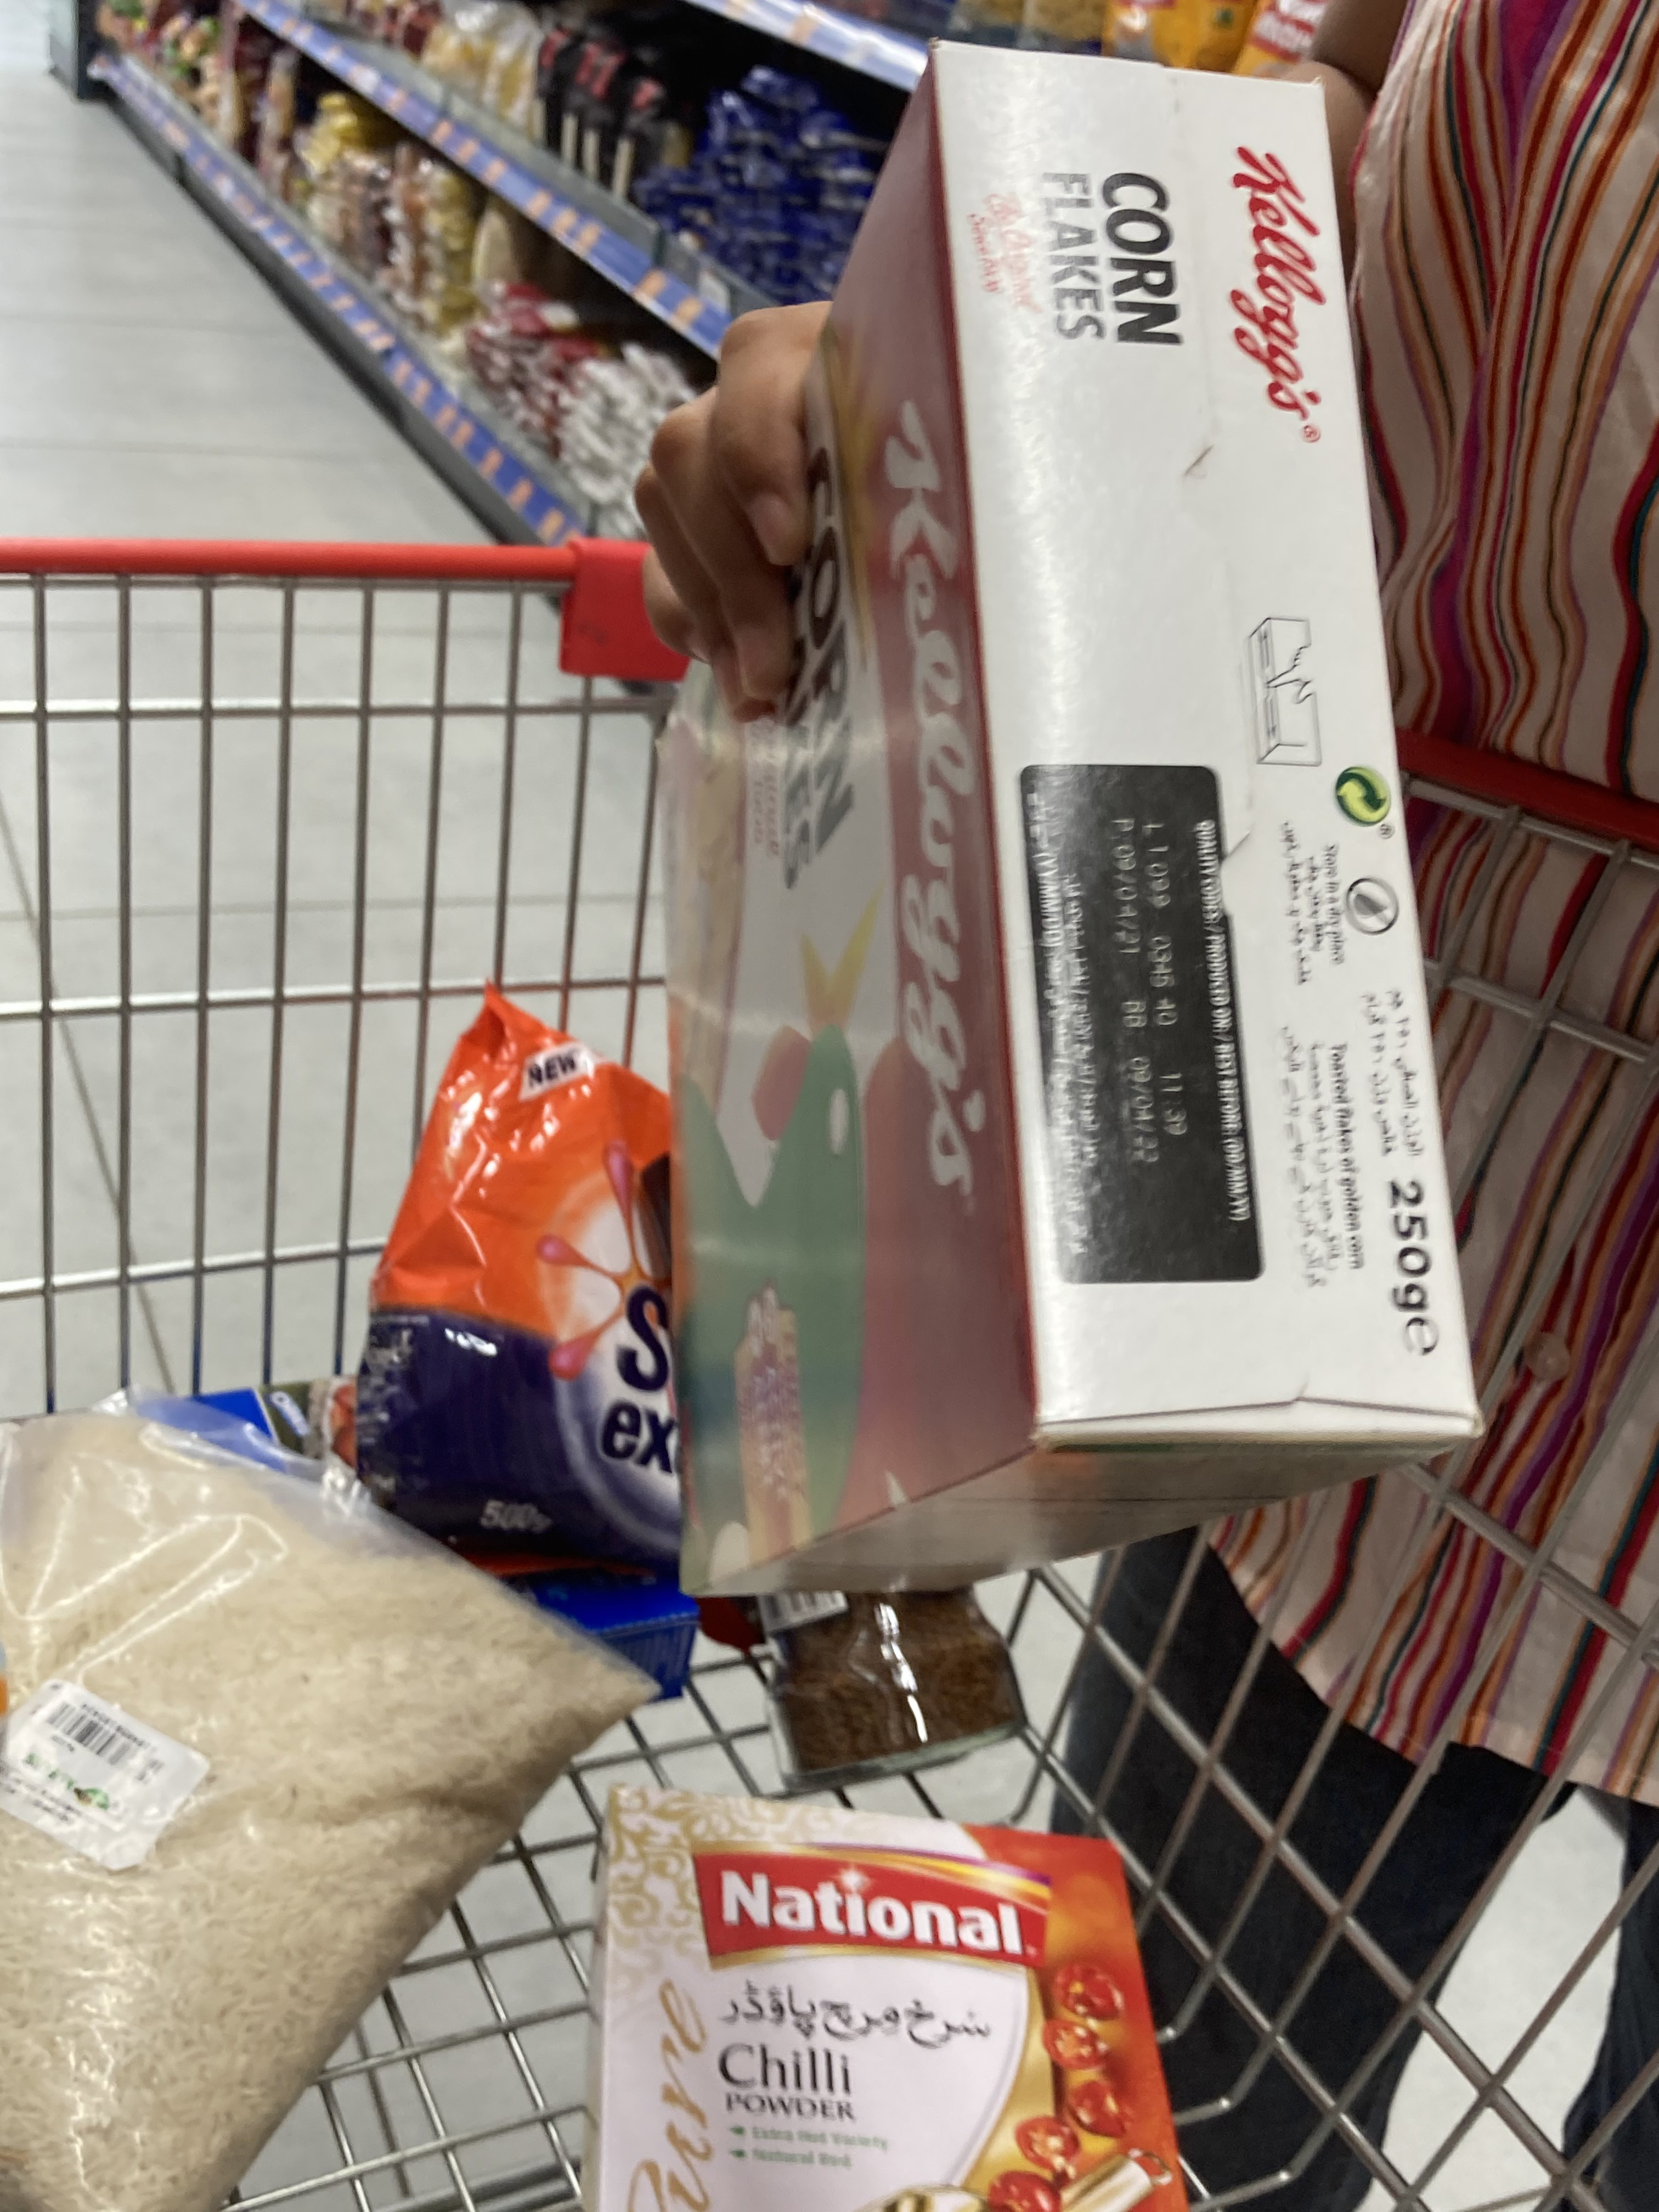Kellogg's Corn Flakes: (643, 40, 1480, 1592)
